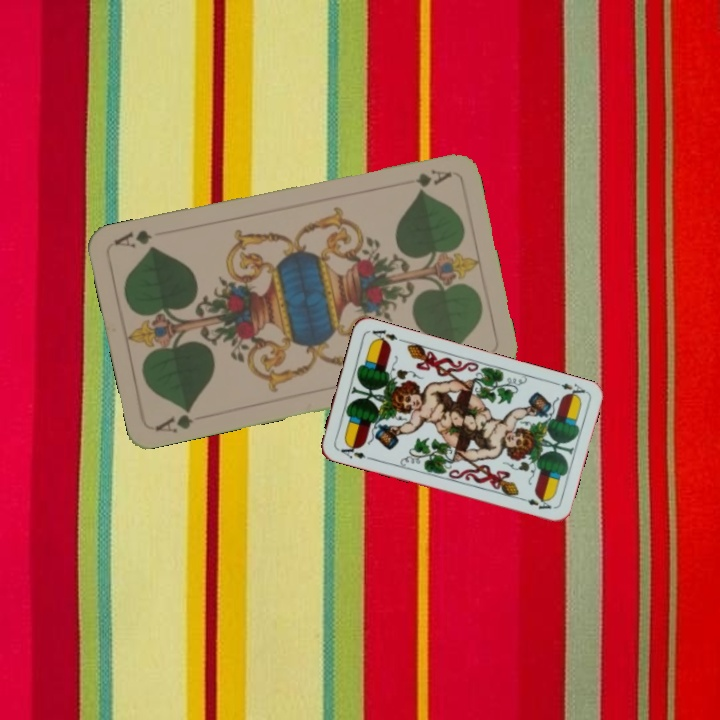EA: (333, 439, 374, 462), (549, 377, 588, 401)
GA: (151, 403, 196, 435), (411, 164, 454, 191)
